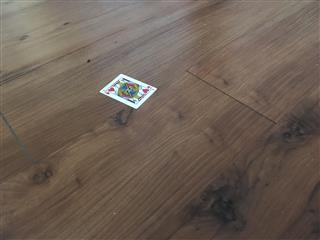JackOfHearts: (98, 72, 157, 109)
